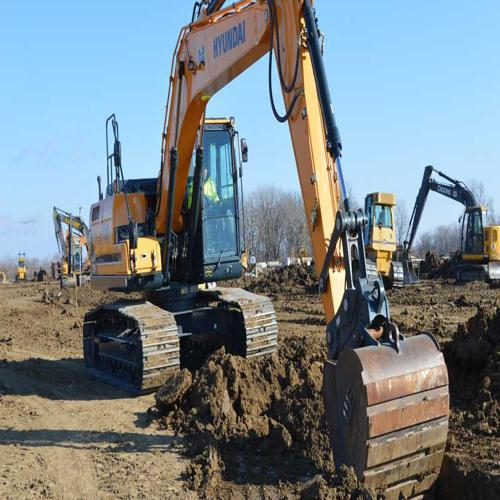con_eq: (78, 2, 445, 493), (415, 167, 500, 289), (353, 189, 405, 291), (42, 210, 94, 273), (14, 252, 30, 283)
